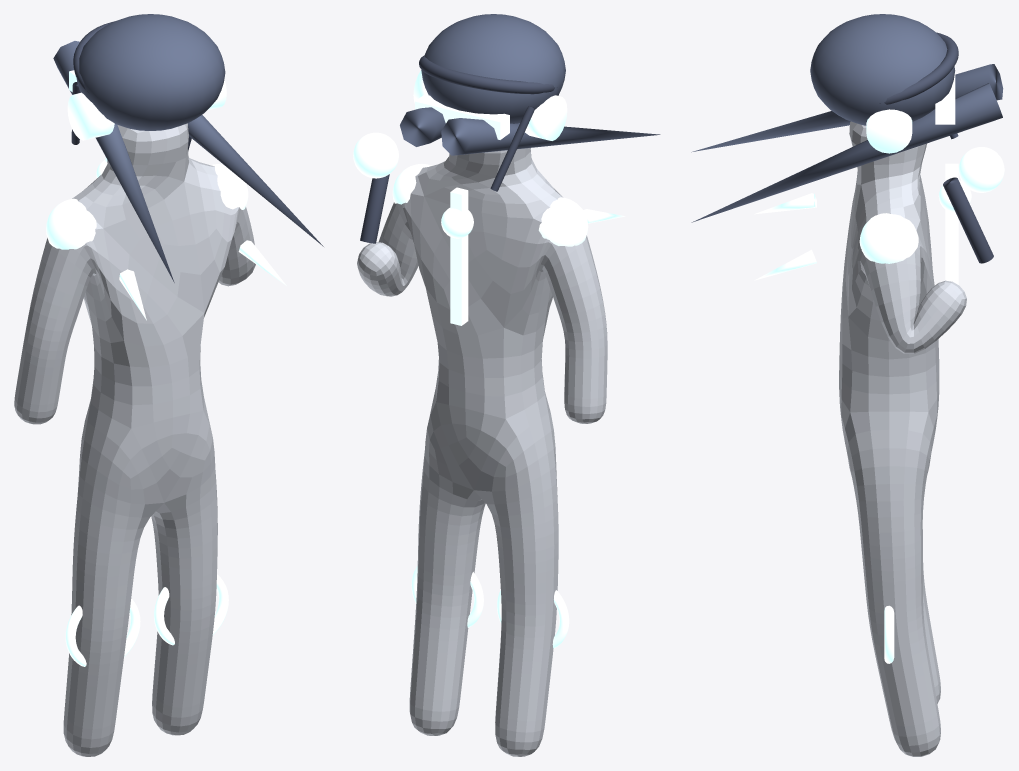
The model's file is juno.glb.
3 renders of one model, left to right at view 1: azimuth 30°, elevation 25°; view 2: azimuth 150°, elevation 25°; view 3: azimuth 270°, elevation 25°, orthographic. The views are drawn at different scales.
Visible parts, largest first — view 1: juno_body, Sphere.003, Cone, Cone.002, Sphere.001, Cylinder, Torus, Torus.001, Sphere.002, Cone.003, Cone.001; view 2: juno_body, Sphere.003, Cone, Cube, Sphere.001, Torus.002, Sphere.004, Cone.002, Cylinder, Cube.001, Cylinder.003, Sphere (+4 smaller); view 3: juno_body, Sphere.003, Cone.002, Cone, Sphere.002, Cylinder.001, Sphere.004, Cylinder.003, Torus.002, Cube, Cube.001, Torus.001 (+2 smaller).
Part boxes in pixels (left/top/right/bottom): juno_body: left=14, top=123, right=255, bottom=756; Sphere.003: left=76, top=14, right=225, bottom=130; Cone: left=53, top=41, right=174, bottom=282; Cone.002: left=188, top=115, right=323, bottom=246; Sphere.001: left=46, top=198, right=96, bottom=249; Cylinder: left=67, top=92, right=114, bottom=140; Torus: left=65, top=598, right=140, bottom=666; Torus.001: left=154, top=574, right=228, bottom=645; Sphere.002: left=210, top=164, right=248, bottom=209; Cone.003: left=238, top=240, right=286, bottom=285; Cone.001: left=119, top=269, right=146, bottom=320; juno_body: left=357, top=148, right=607, bottom=756; Sphere.003: left=421, top=14, right=565, bottom=123; Cone: left=441, top=118, right=660, bottom=155; Cube: left=450, top=187, right=468, bottom=325; Sphere.001: left=538, top=197, right=588, bottom=246; Torus.002: left=419, top=55, right=557, bottom=94; Sphere.004: left=353, top=132, right=398, bottom=178; Cone.002: left=400, top=107, right=445, bottom=146; Cylinder: left=525, top=95, right=567, bottom=140; Cube.001: left=415, top=94, right=509, bottom=139; Cylinder.003: left=360, top=174, right=389, bottom=243; Sphere: left=441, top=208, right=473, bottom=238; juno_body: left=839, top=121, right=966, bottom=756; Sphere.003: left=810, top=14, right=955, bottom=125; Cone.002: left=691, top=83, right=1002, bottom=222; Cone: left=691, top=64, right=1003, bottom=152; Sphere.002: left=859, top=213, right=918, bottom=263; Cylinder.001: left=866, top=109, right=912, bottom=153; Sphere.004: left=958, top=147, right=1004, bottom=192; Cylinder.003: left=943, top=177, right=993, bottom=263; Torus.002: left=879, top=32, right=958, bottom=104; Cube: left=945, top=163, right=958, bottom=284; Cube.001: left=935, top=65, right=955, bottom=124; Torus.001: left=884, top=605, right=894, bottom=663.
Bounding box in the file's own units: 0.812 × 2.38 × 0.9537.
